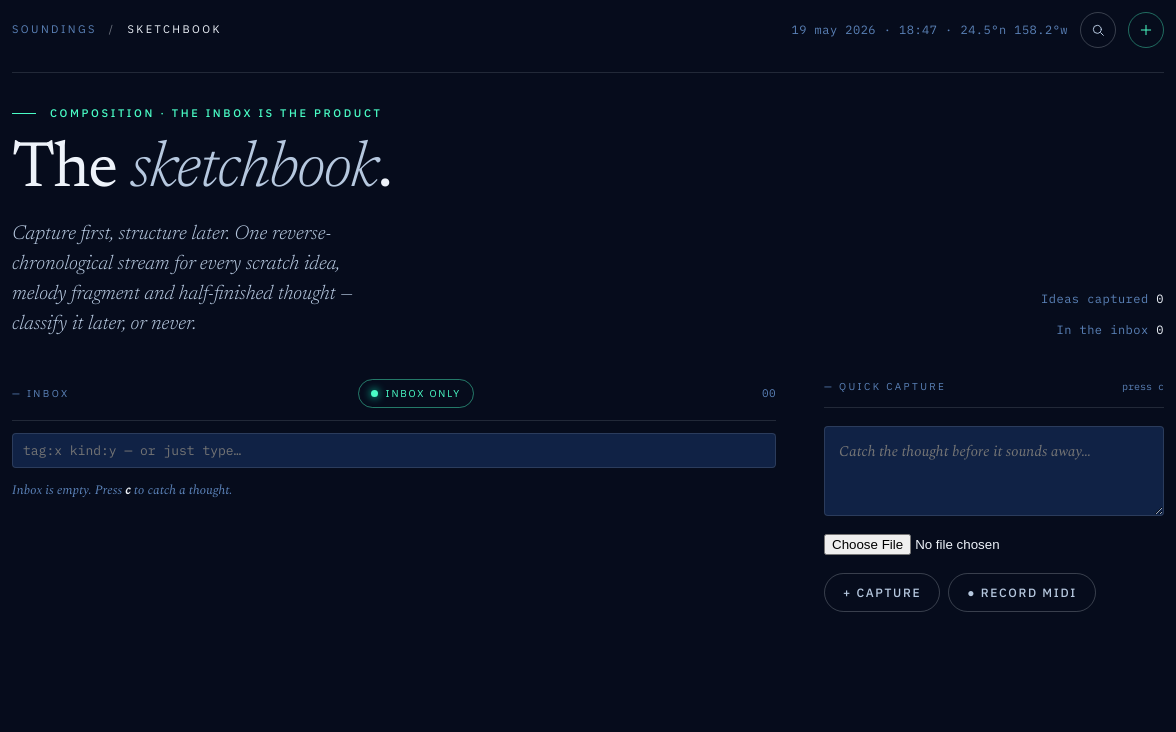
Test: SketchbookLive with a backend (local build) › debounces the search box 250ms before it reaches the API, and renders the filtered result
In the search field named "search ideas": (394, 451) x1=12 y1=433 x2=776 y2=468, type "j"
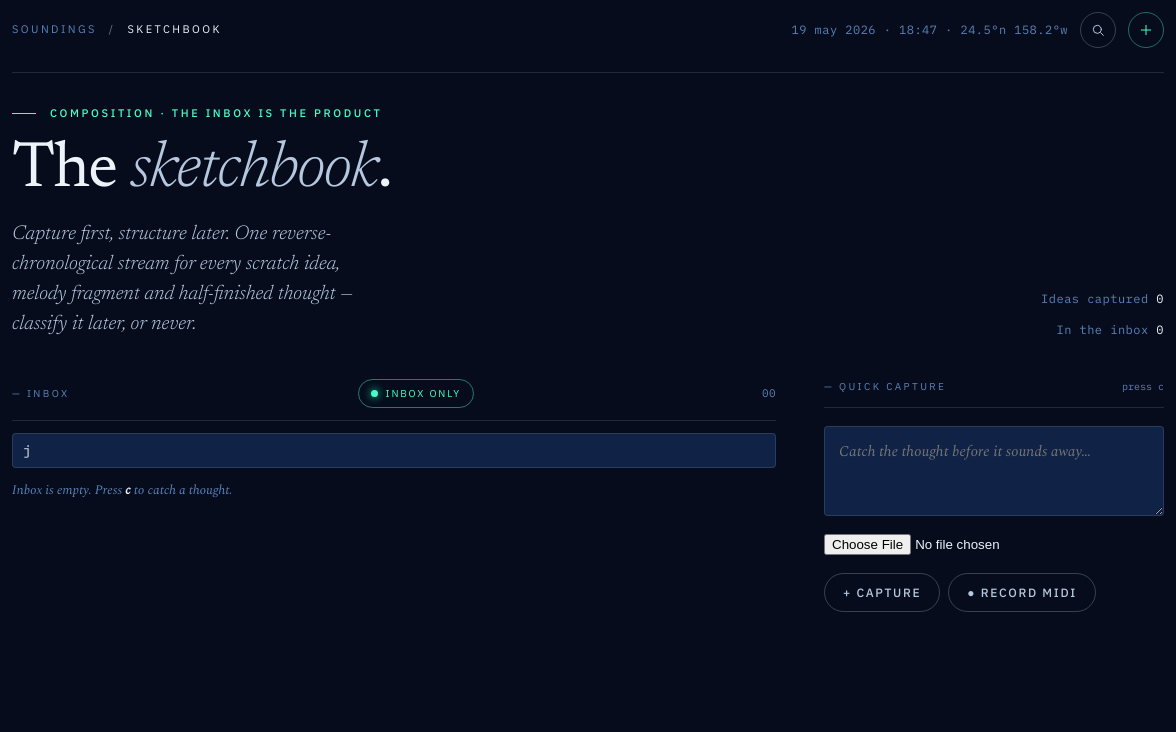
Replace the text in the search field named "search ideas" with "ja": (394, 451) x1=12 y1=433 x2=776 y2=468
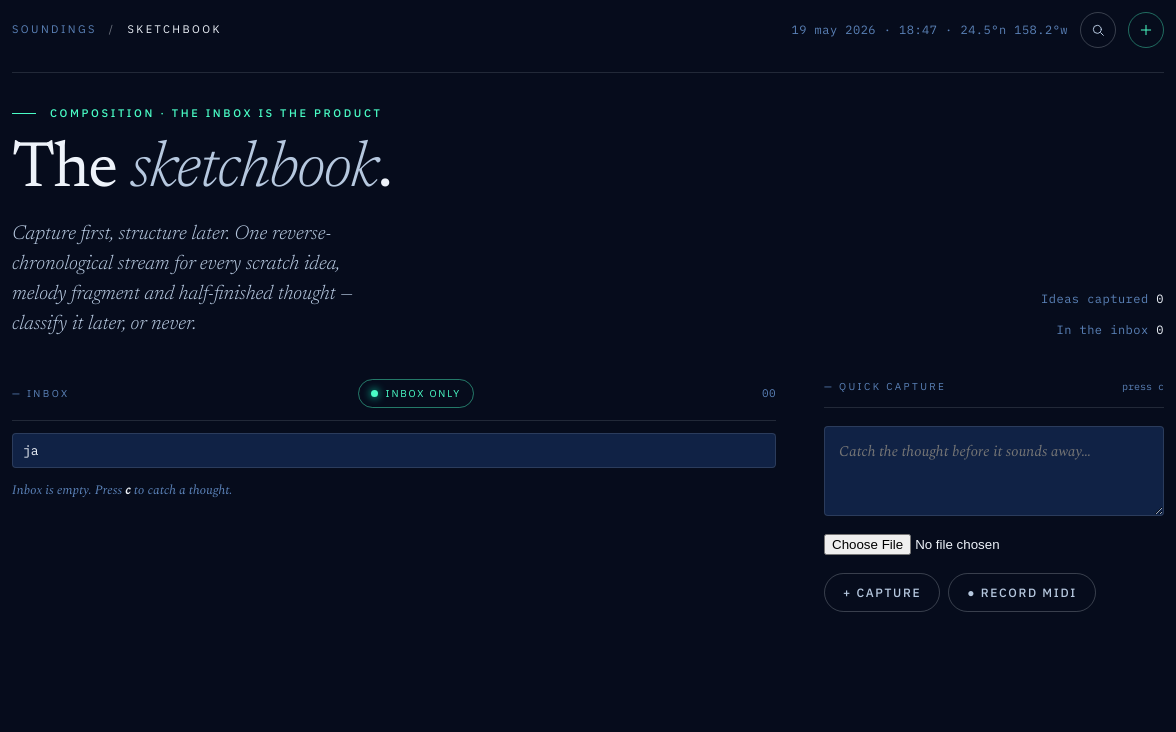
Replace the text in the search field named "search ideas" with "jazz": (394, 451) x1=12 y1=433 x2=776 y2=468
Wait 300 ms
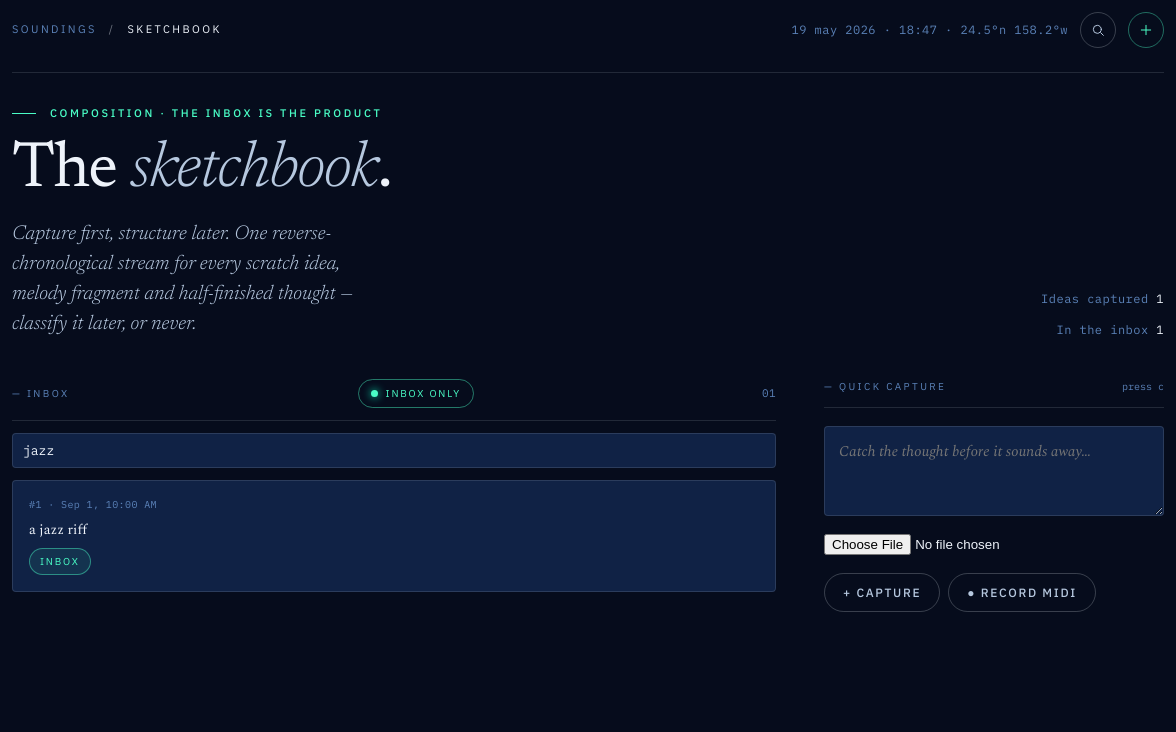
Expected: the text "a jazz riff" is shown, x1=29 y1=519 x2=87 y2=540
